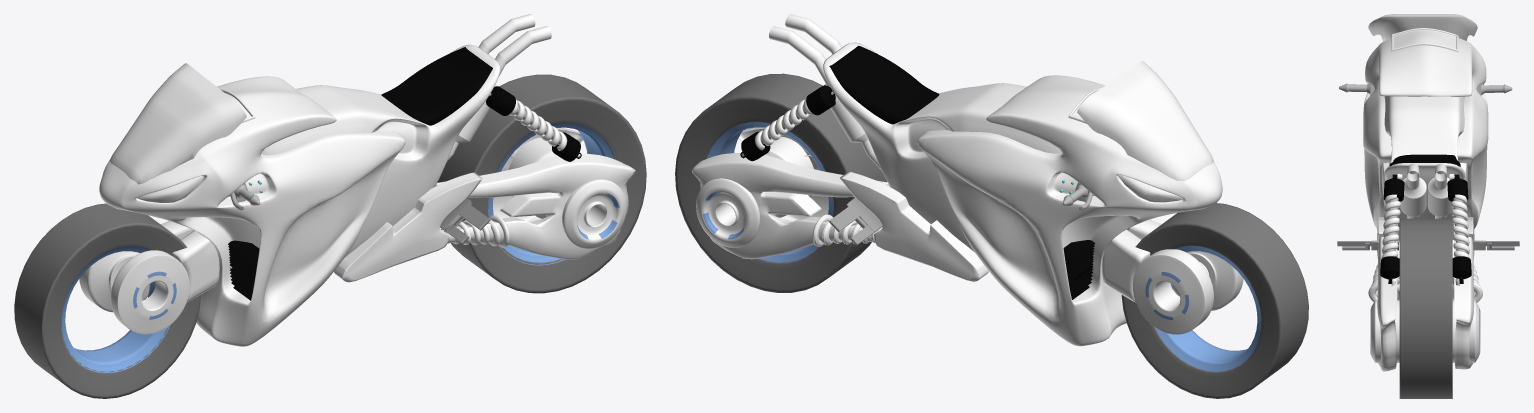
File: bike.glb
3 renders of one model, left to right at view 1: azimuth 30°, elevation 25°; view 2: azimuth 150°, elevation 25°; view 3: azimuth 270°, elevation 25°, orthographic. The views are drawn at different scales.
Parts seen in each view (by area): view 1: polySurface151, polySurface142, polySurface141, polySurface135, polySurface168, polySurface138, polySurface169, polySurface165, polySurface139, polySurface167, polySurface143, pPlane33 (+11 smaller); view 2: polySurface151, polySurface142, polySurface141, polySurface149, polySurface135, polySurface138, polySurface164, polySurface139, polySurface166, polySurface143, pPlane50, pCylinder50 (+10 smaller); view 3: polySurface151, polySurface141, polySurface135, polySurface138, polySurface149, polySurface168, pCylinder34, pCylinder50, pHelix10, pHelix4, polySurface167, polySurface166 (+13 smaller).
Part boxes in pixels (box(x1,y1,x2,y2)): polySurface151: box(99, 76, 405, 346); polySurface142: box(14, 203, 200, 398); polySurface141: box(437, 74, 646, 293); polySurface135: box(261, 44, 500, 257); polySurface168: box(435, 154, 635, 259); polySurface138: box(109, 63, 246, 184); polySurface169: box(334, 172, 482, 282); polySurface165: box(110, 250, 189, 334); polySurface139: box(381, 47, 492, 125); polySurface167: box(546, 179, 626, 248); polySurface143: box(61, 245, 170, 373); pPlane33: box(172, 230, 219, 302); polySurface151: box(917, 75, 1222, 346); polySurface142: box(1121, 203, 1308, 398); polySurface141: box(675, 73, 886, 292); polySurface149: box(692, 153, 988, 281); polySurface135: box(823, 42, 1061, 251); polySurface138: box(1077, 61, 1213, 181); polySurface164: box(1132, 249, 1213, 334); polySurface139: box(829, 45, 939, 124); polySurface166: box(696, 178, 776, 247); polySurface143: box(1154, 246, 1261, 371); pPlane50: box(1102, 229, 1150, 302); pCylinder50: box(769, 26, 881, 170); polySurface151: box(1363, 27, 1488, 228); polySurface141: box(1399, 218, 1452, 398); polySurface135: box(1381, 96, 1467, 242); polySurface138: box(1368, 14, 1477, 41); polySurface149: box(1454, 217, 1474, 369); polySurface168: box(1377, 224, 1397, 371); pCylinder34: box(1400, 163, 1426, 218); pCylinder50: box(1427, 163, 1453, 218); pHelix10: box(1451, 194, 1470, 258); pHelix4: box(1381, 194, 1400, 258); polySurface167: box(1370, 300, 1399, 362); polySurface166: box(1452, 300, 1480, 362).
Size of the model in its own units: 0.2261 by 0.1008 by 0.0699.
